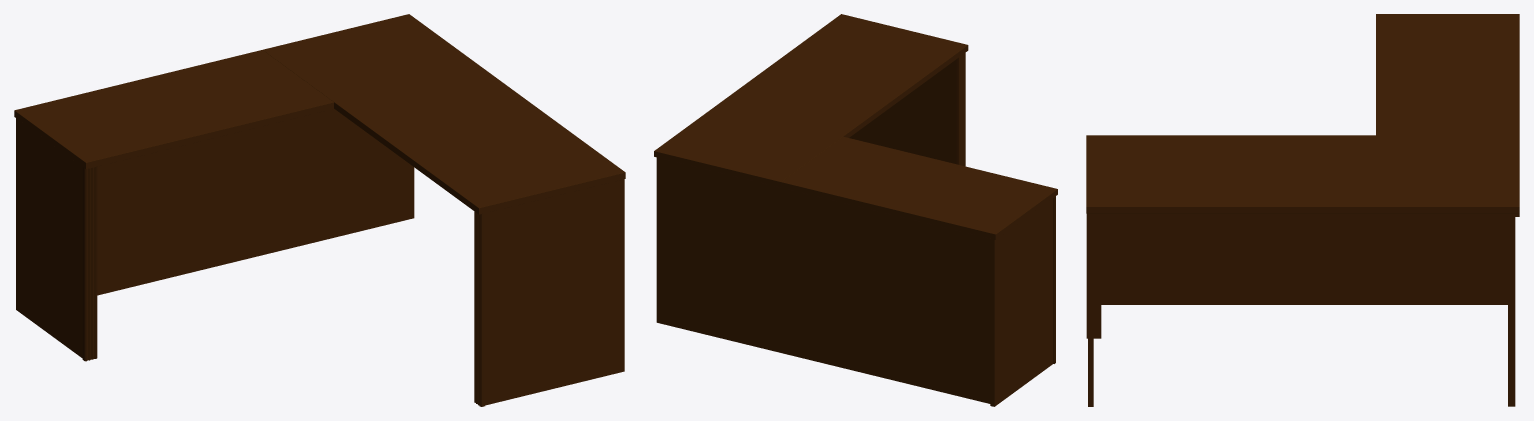
The model's file is OffTableAlt.glb.
3 views of the same model, side by side, from view 1: azimuth 30°, elevation 25°; view 2: azimuth 150°, elevation 25°; view 3: azimuth 270°, elevation 25° (orthographic). The views are drawn at different scales.
Visible parts, largest first — view 1: model; view 2: model; view 3: model.
Part boxes in pixels (bbox=[...]): model: bbox=[14, 14, 625, 406]; model: bbox=[654, 14, 1057, 406]; model: bbox=[1086, 14, 1519, 406].
Size of the model in its own units: 2.25 by 1.09 by 2.14.
